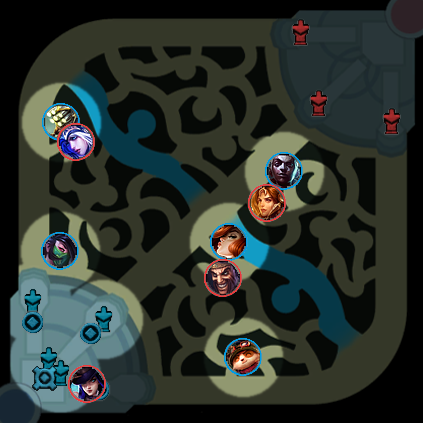Akali: (41, 232, 79, 270)
Ashe: (57, 123, 95, 161)
Caitlyn: (68, 365, 106, 403)
Draven: (204, 259, 242, 297)
Ekko: (265, 152, 303, 190)
Leona: (248, 184, 286, 222)
MasterYi: (42, 103, 80, 141)
MissFortune: (210, 223, 248, 261)
Teemo: (224, 338, 262, 376)
